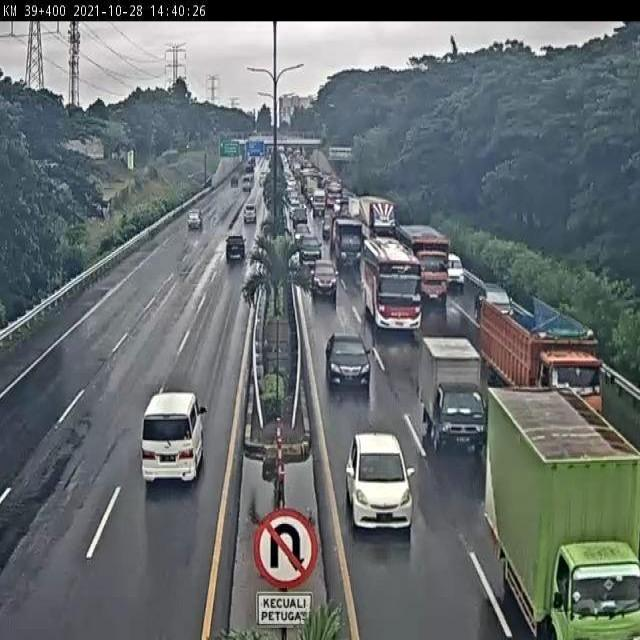bus-l-: (363, 238, 424, 334)
car: (345, 432, 413, 532), (156, 358, 212, 446), (326, 330, 373, 390), (474, 285, 517, 327), (312, 263, 340, 304), (447, 253, 468, 291), (299, 234, 322, 266), (228, 227, 248, 254)
truck-l-: (479, 297, 603, 419), (398, 223, 452, 304)
truck-m-: (337, 217, 367, 271)
truck-s-: (420, 333, 486, 451)
